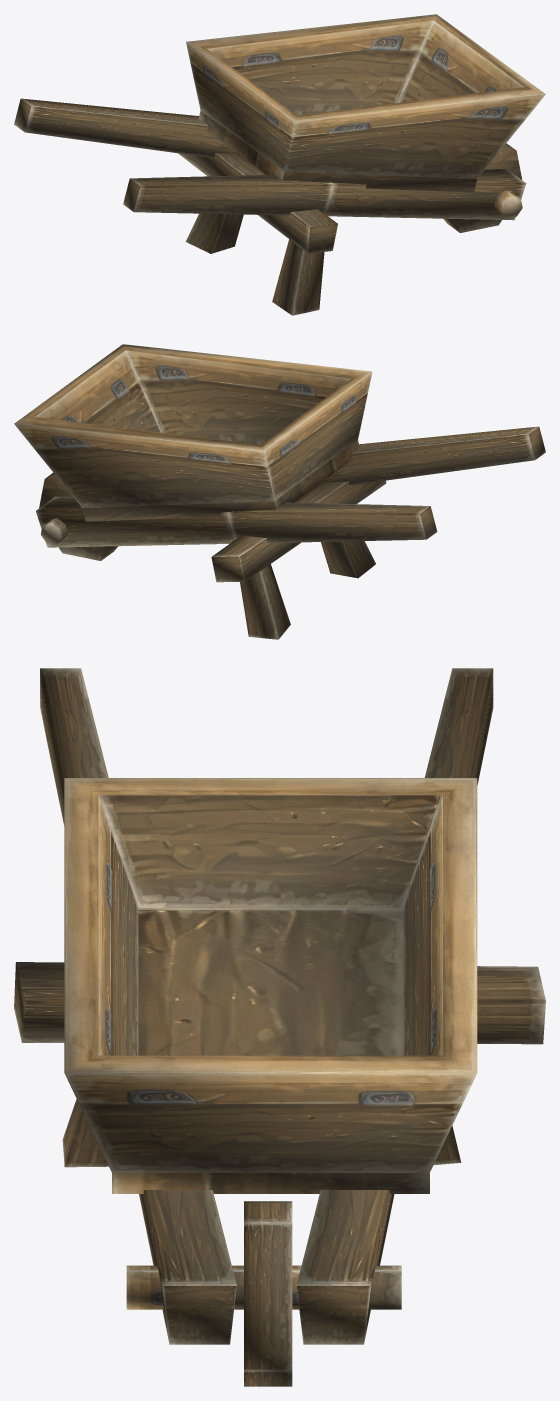
File: caveminewheelbarrow01.obj
The picture shows the model from 3 angles, top to bottom: view 1: azimuth 30°, elevation 25°; view 2: azimuth 150°, elevation 25°; view 3: azimuth 270°, elevation 25°; orthographic projection. The views are drawn at different scales.
Parts seen in each view (by area): view 1: caveminewheelbarrow01; view 2: caveminewheelbarrow01; view 3: caveminewheelbarrow01.
Boxes of the visible parts, box(x1,y1,x2,y2) form: caveminewheelbarrow01: box(14, 14, 545, 315); caveminewheelbarrow01: box(14, 344, 545, 639); caveminewheelbarrow01: box(14, 668, 545, 1386).
Bounding box in the file's own units: 2.89 × 1.24 × 1.58.
Materials: 1 (1 with a texture image).
